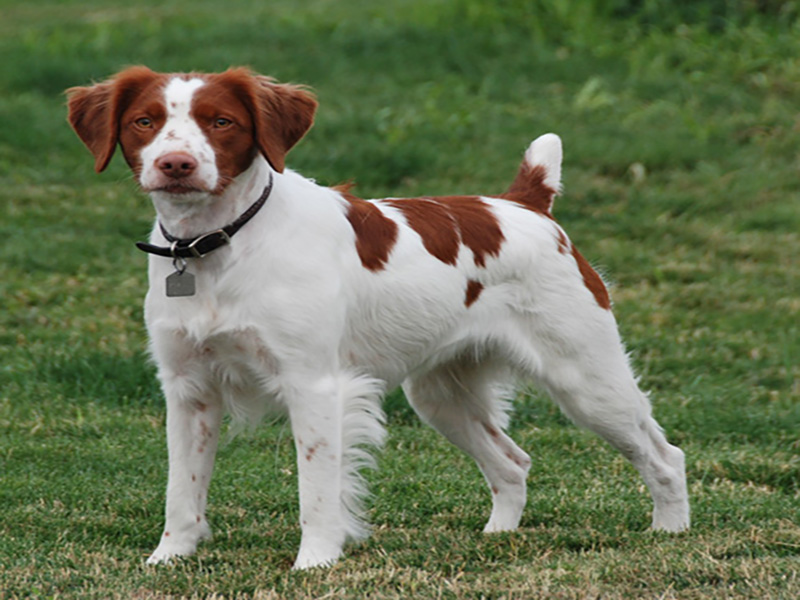cane da caccia: (66, 59, 711, 564)
